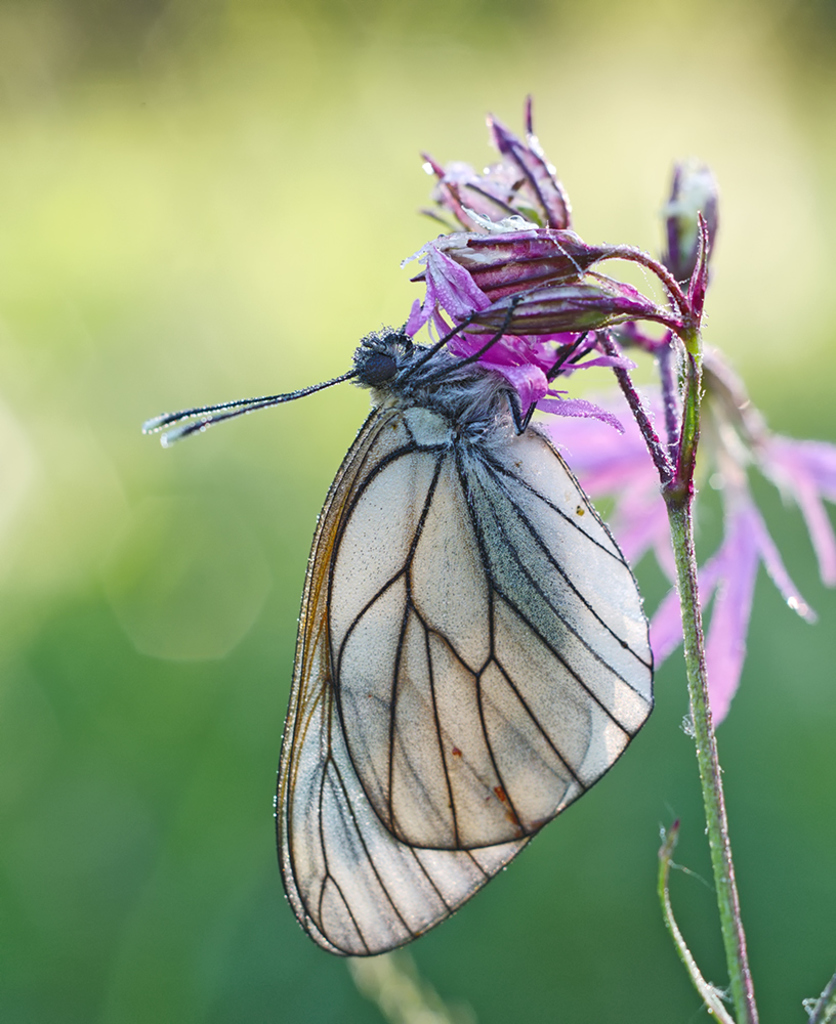Butterfly: (163, 304, 664, 930)
